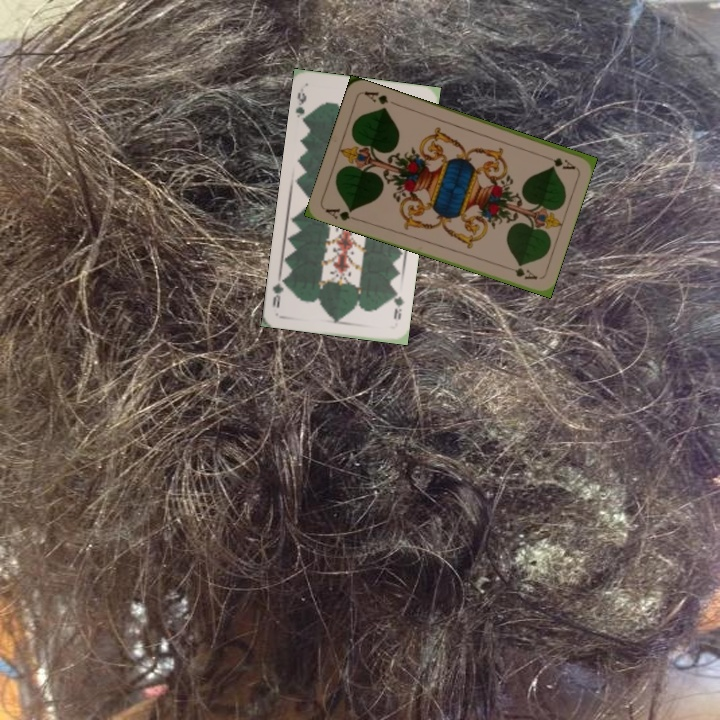G9: (291, 88, 311, 125), (389, 286, 407, 322)
GA: (538, 151, 577, 172), (321, 204, 361, 223)
